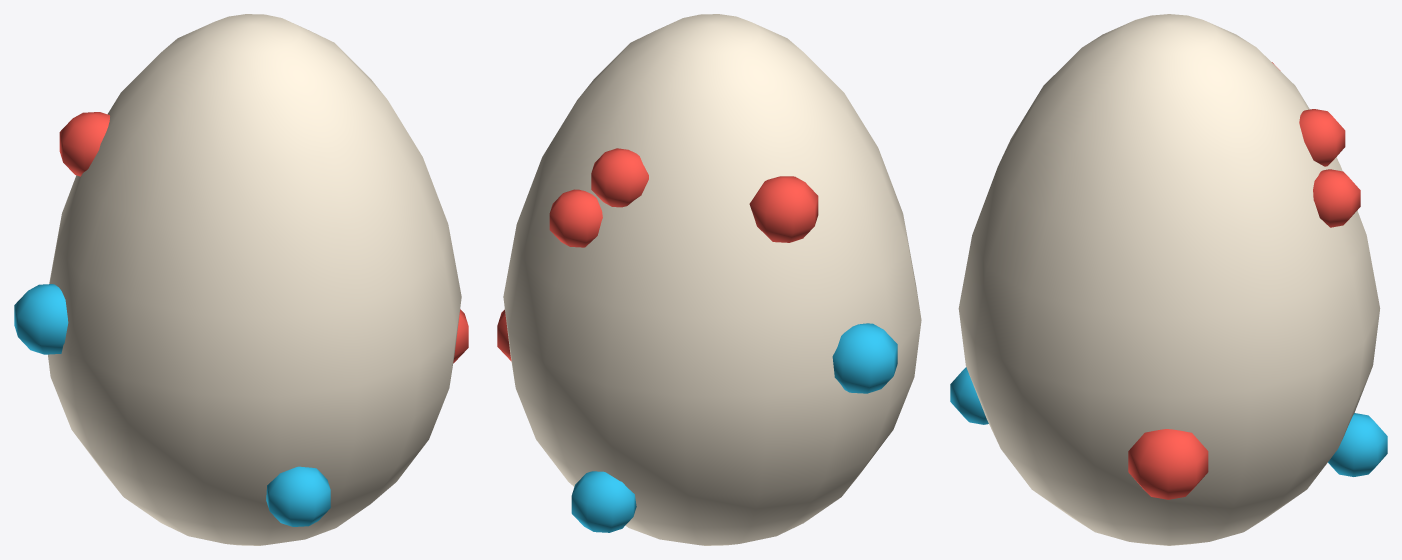
Rendered from Egg.fbx.
The picture shows the model from 3 angles, left to right: view 1: azimuth 30°, elevation 25°; view 2: azimuth 150°, elevation 25°; view 3: azimuth 270°, elevation 25°; orthographic projection.
Parts seen in each view (by area): view 1: Egg; view 2: Egg; view 3: Egg.
Boxes of the visible parts, x1,y1,x2,y2 form: Egg: [14, 14, 468, 545]; Egg: [497, 14, 921, 545]; Egg: [950, 14, 1387, 545].
Bounding box in the file's own units: 0.5514 × 0.6355 × 0.4978.
1 material, 1 textured.
